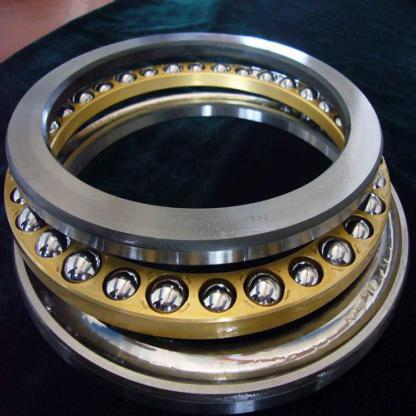FOD: (6, 28, 413, 415)
